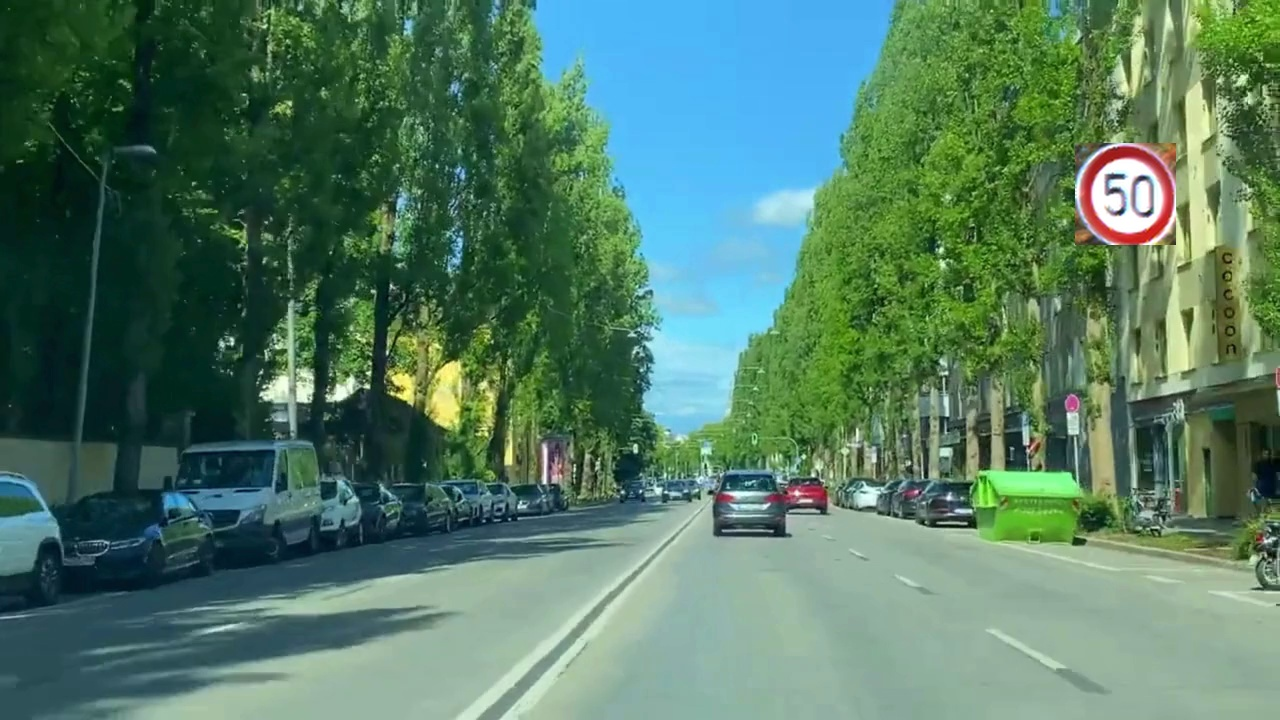Speed 50: (1075, 143, 1176, 245)
